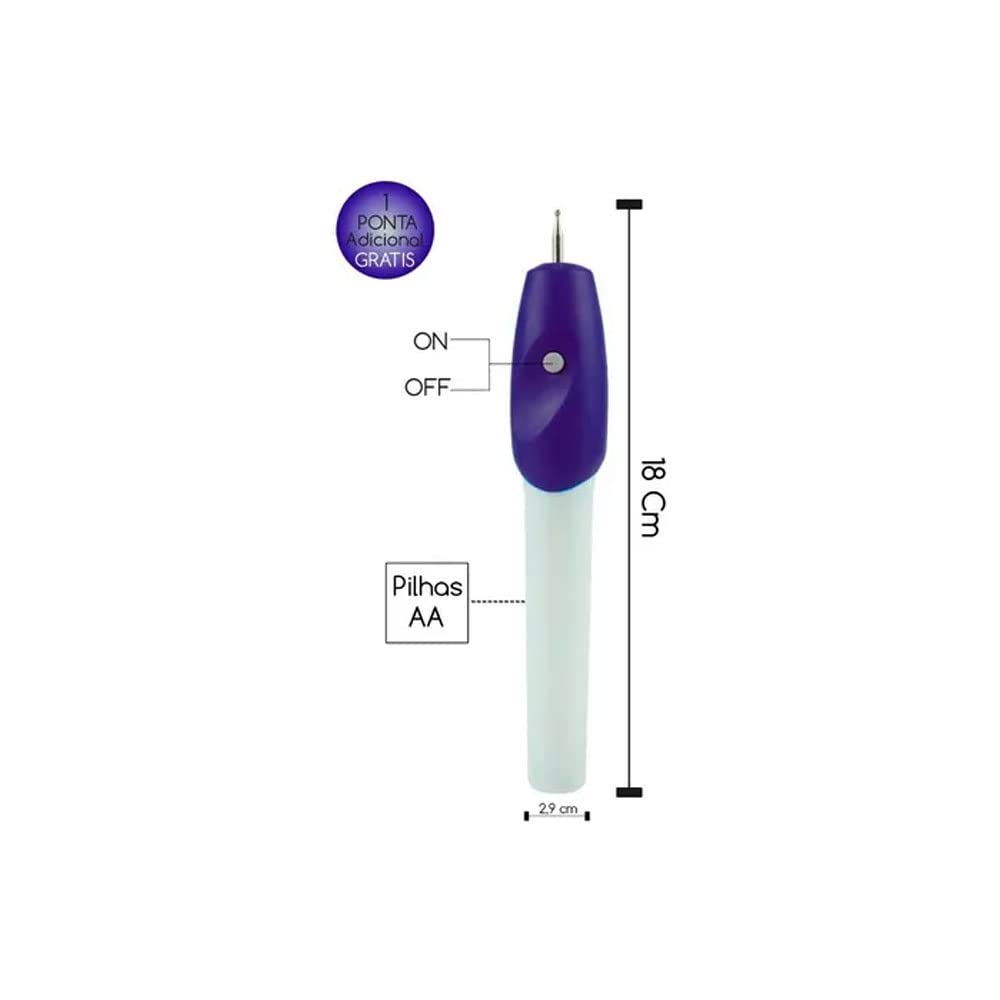GRATIS: (355, 252, 414, 267)
WD: (641, 491, 666, 537)
